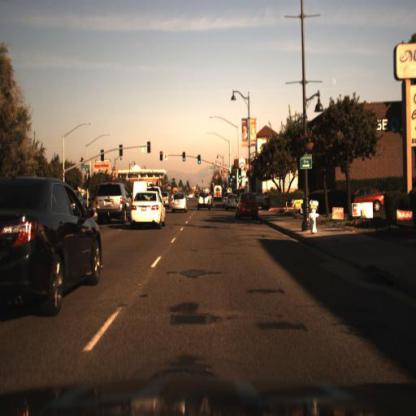car: (1, 176, 104, 318), (96, 183, 136, 229), (133, 191, 167, 229), (353, 186, 386, 216), (236, 193, 259, 223), (173, 189, 187, 214), (199, 191, 213, 214)
trafficLight-Green: (183, 148, 188, 164), (239, 168, 244, 182), (198, 154, 203, 167)
trafficLight-RedLeft: (160, 149, 165, 164)
